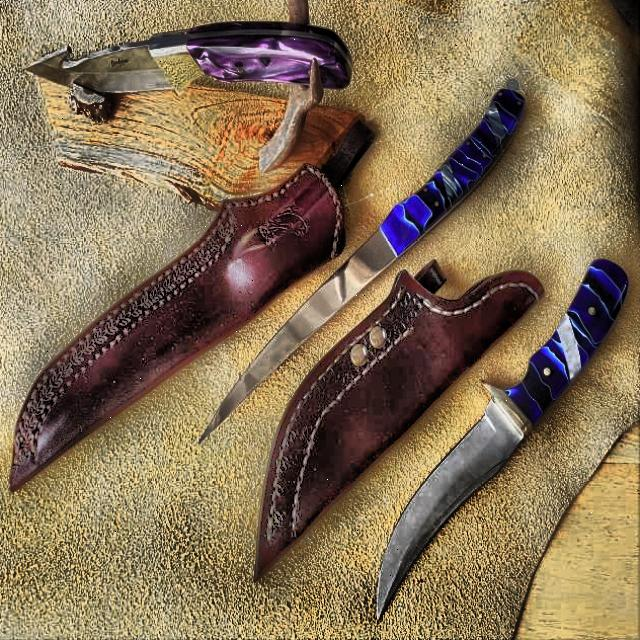knife: (202, 80, 528, 447), (370, 257, 633, 623)
